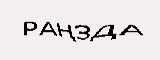Ж: (23, 9, 51, 32)
И: (112, 5, 135, 27)
Н: (86, 2, 108, 22)
Р: (68, 4, 88, 31)
Х: (50, 5, 69, 32)
